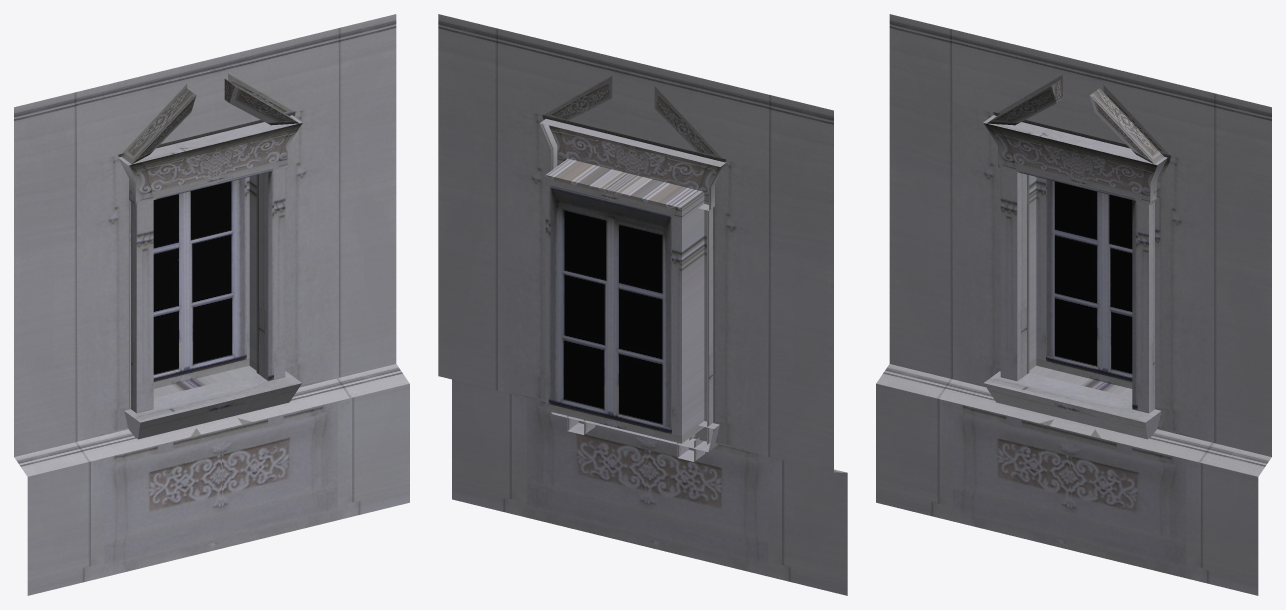
The model's file is fenster1.obj.
3 renders of one model, left to right at view 1: azimuth 30°, elevation 25°; view 2: azimuth 150°, elevation 25°; view 3: azimuth 330°, elevation 25°, orthographic. The views are drawn at different scales.
Visible parts, largest first — view 1: polySurface182; view 2: polySurface182; view 3: polySurface182.
Boxes of the visible parts, box(x1,y1,x2,y2) form: polySurface182: box(14, 14, 409, 595); polySurface182: box(438, 14, 847, 595); polySurface182: box(876, 14, 1271, 595).
Size of the model in its own units: 1 by 1.2 by 0.1705.
Materials: 1 (1 with a texture image).
